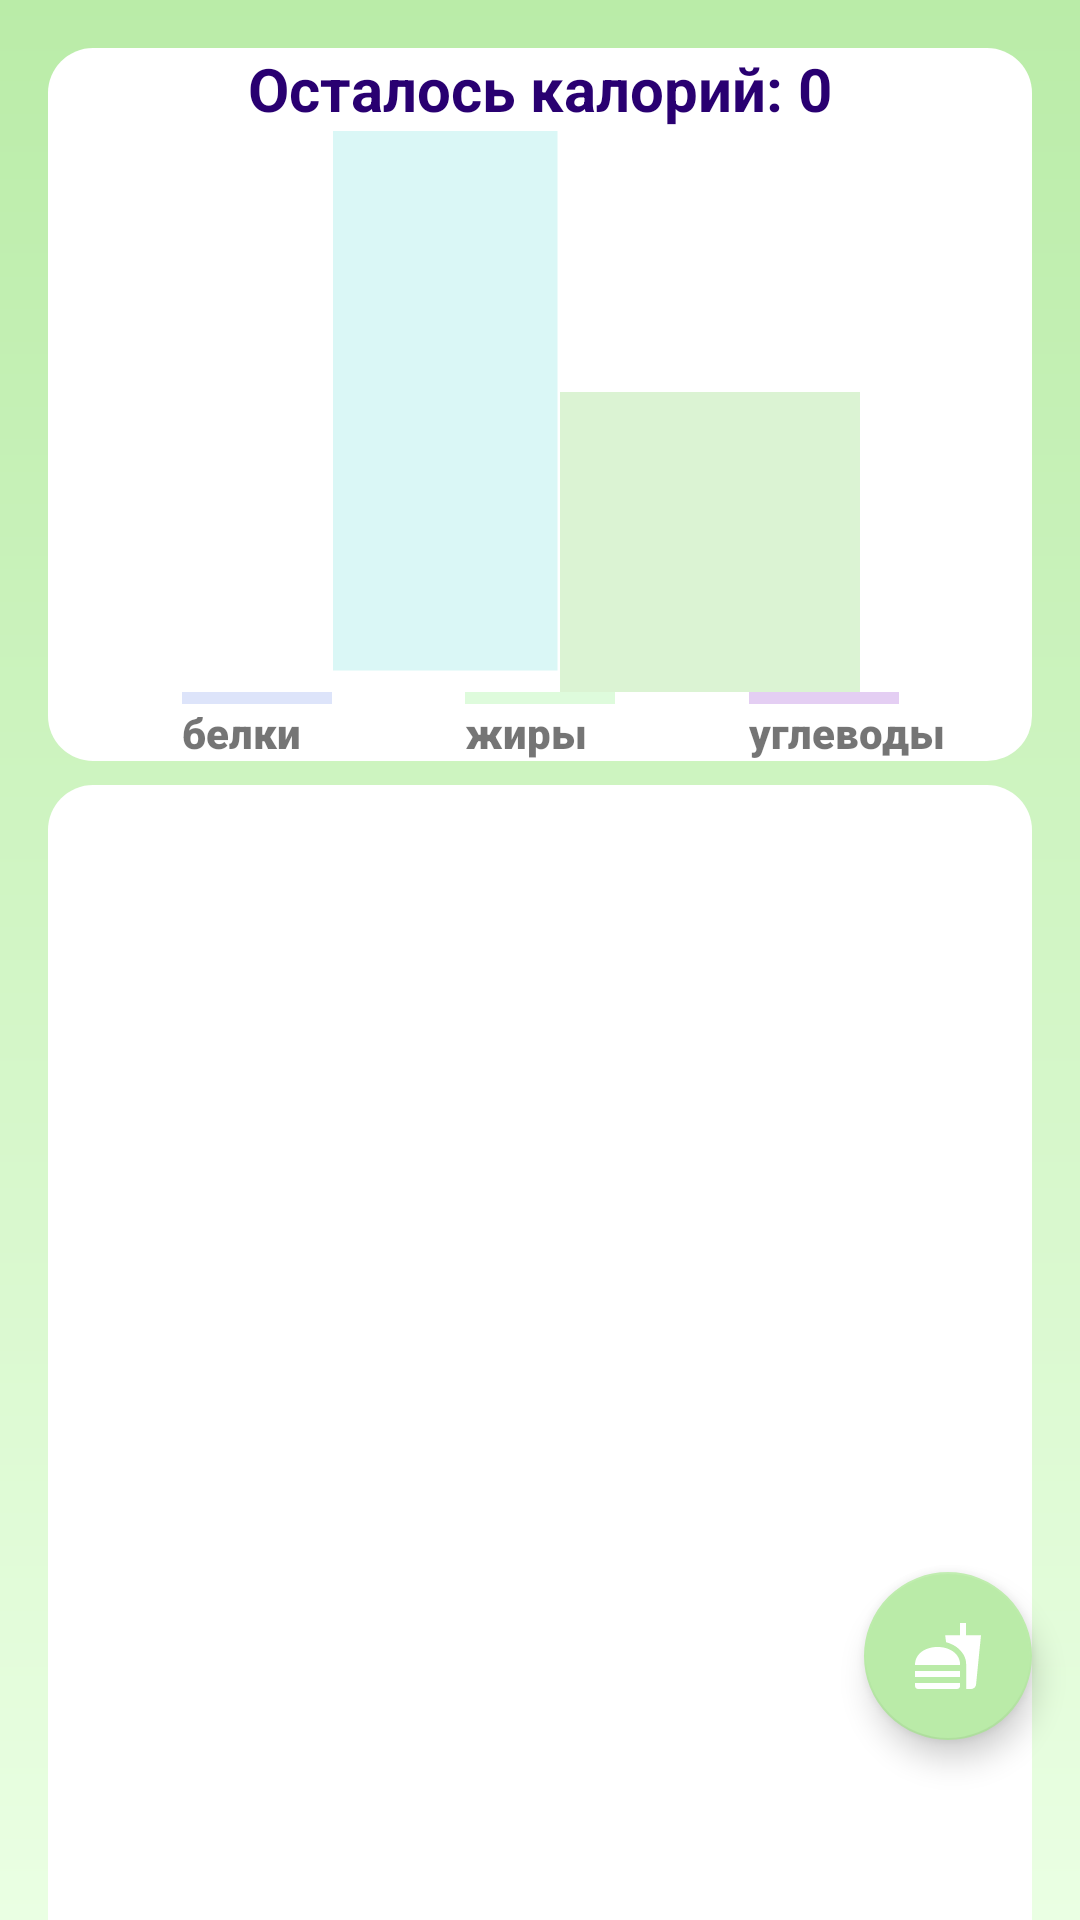

Point at icon controls on the screen. Image size 1080 x 1920, points as (x,y).
fastfood: (948,1656)
